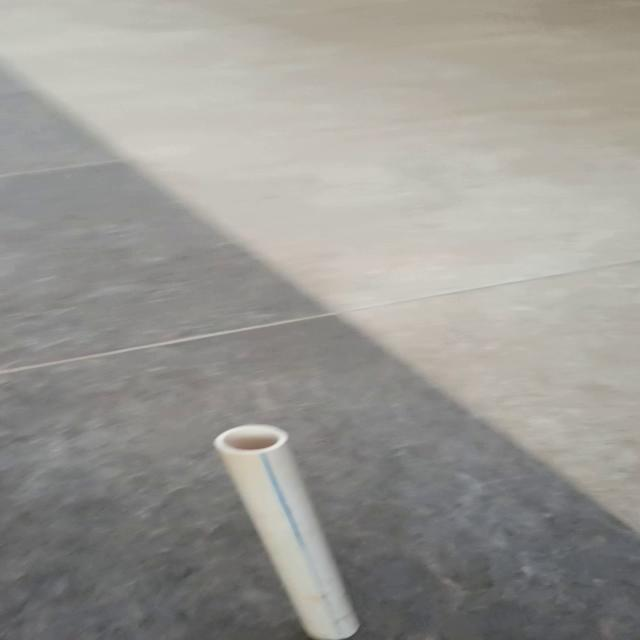Cube: (212, 423, 362, 639)
